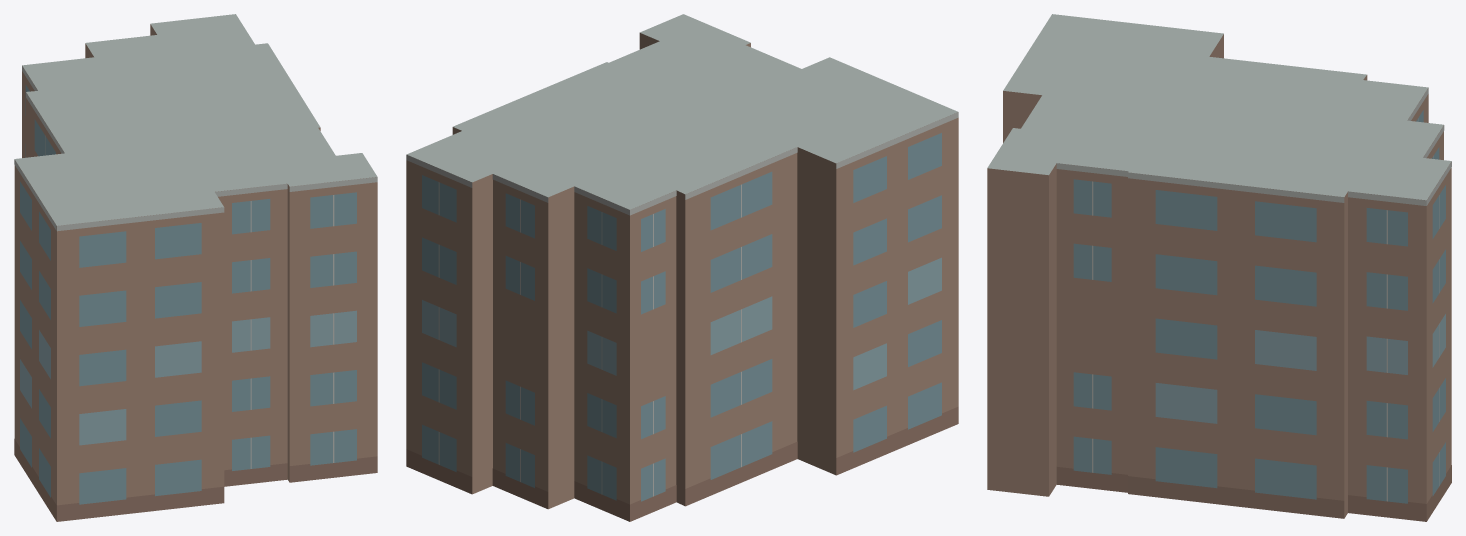
The model's file is survey-upis-33013991.glb.
The picture shows the model from 3 angles, left to right: view 1: azimuth 30°, elevation 25°; view 2: azimuth 150°, elevation 25°; view 3: azimuth 270°, elevation 25°; orthographic projection. The views are drawn at different scales.
Parts seen in each view (by area): view 1: survey-upis-33013991.tmp; view 2: survey-upis-33013991.tmp; view 3: survey-upis-33013991.tmp.
Part boxes in pixels (box(x1,y1,x2,y2)): survey-upis-33013991.tmp: box(14, 14, 377, 521); survey-upis-33013991.tmp: box(406, 14, 958, 521); survey-upis-33013991.tmp: box(987, 14, 1451, 521).
Bounding box in the file's own units: 16.72 × 13.45 × 17.62.
